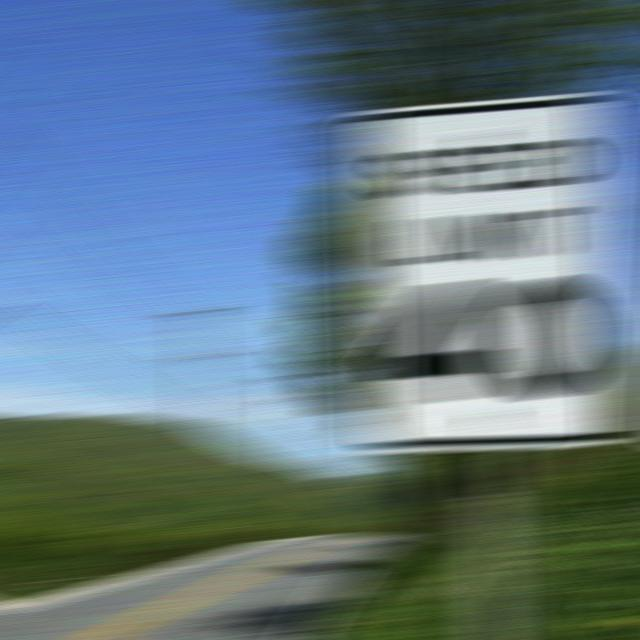speedLimit40: (369, 115, 606, 442)
